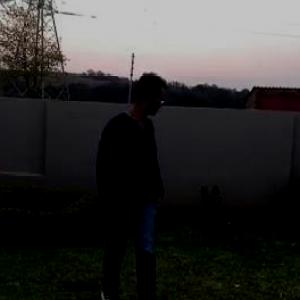follow: (94, 67, 170, 292)
